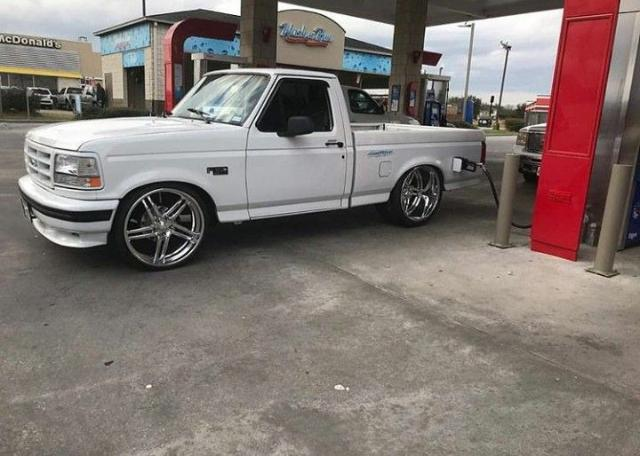pickup-truck: (17, 67, 492, 272)
